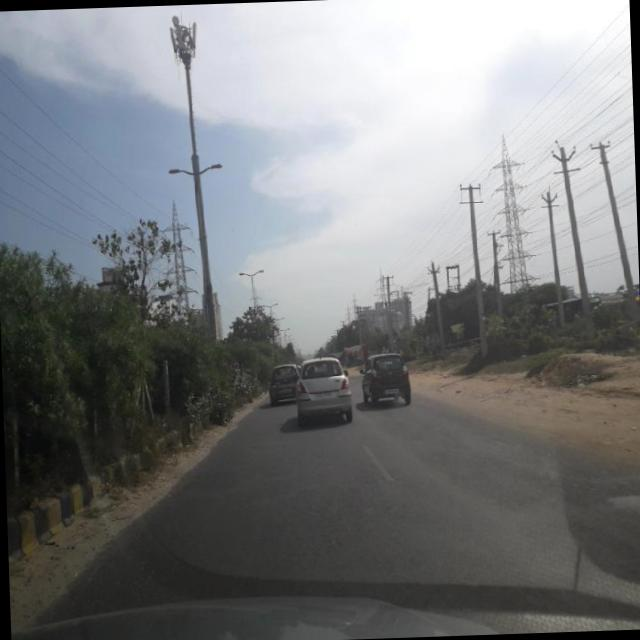crack: (51, 423, 640, 610)
